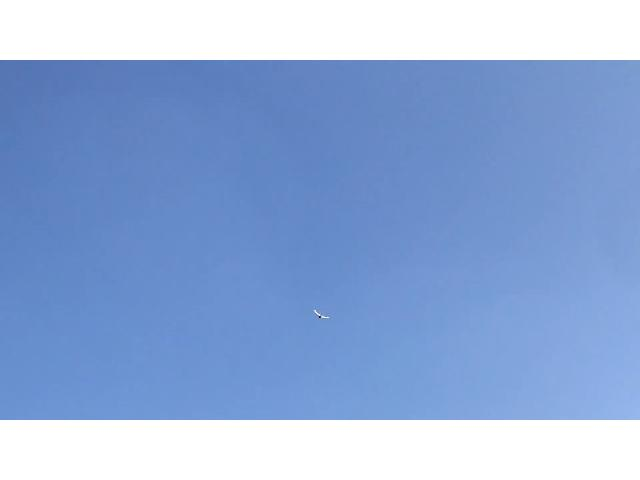Anti-Drone: (305, 303, 341, 325)
